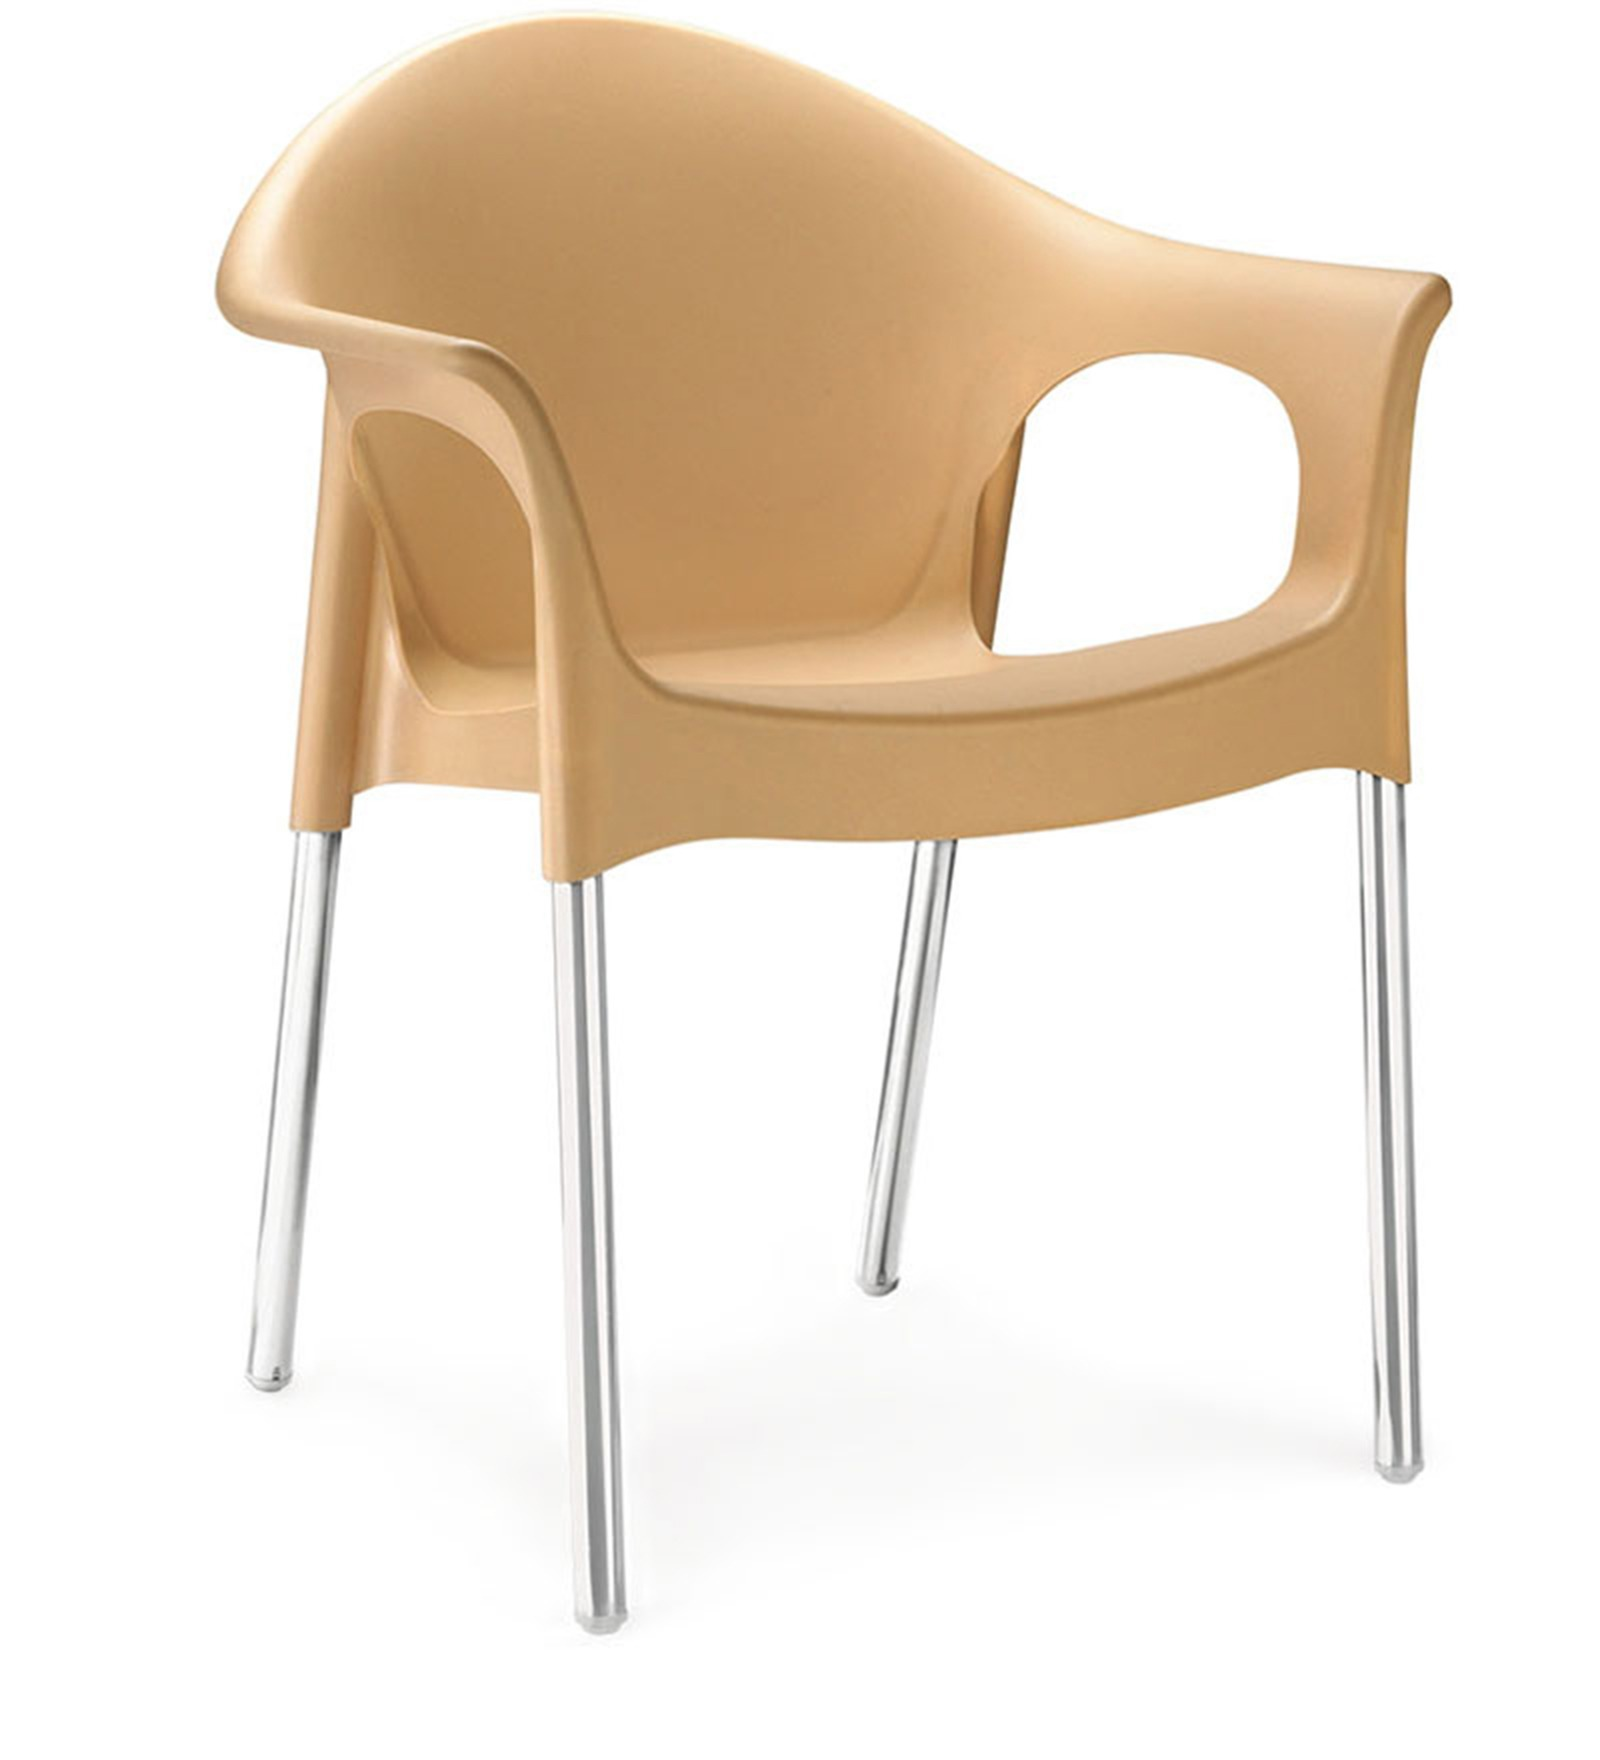Novella Chair in Biscuit Colour by Nilkamal: (201, 12, 1451, 1634)
